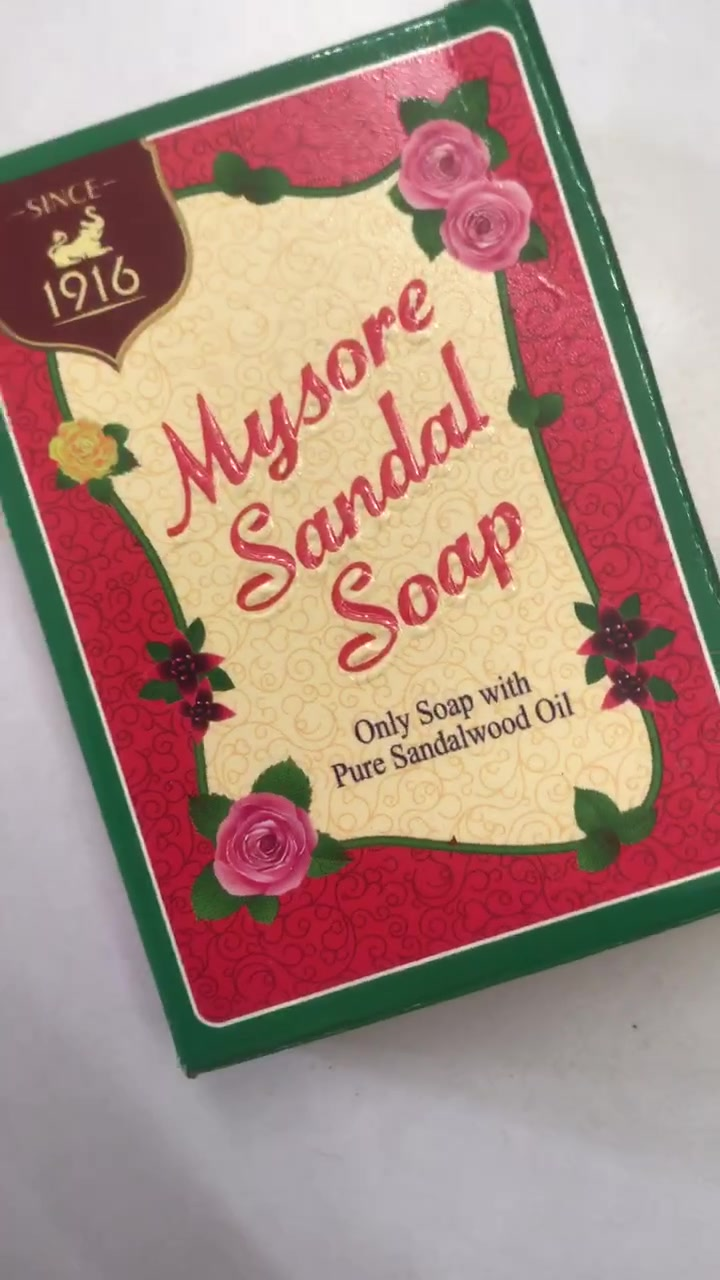mysore sandal soap: (6, 13, 720, 1068)
